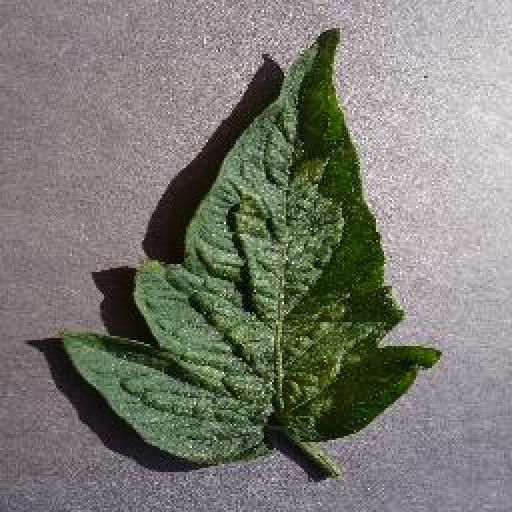disease_tomato: (56, 24, 444, 466)
